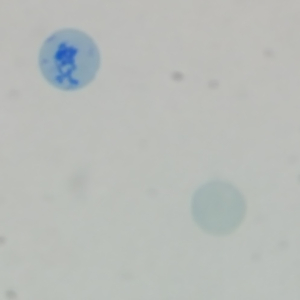aggregate reticulocyte: (36, 26, 102, 94)
erythrocyte: (189, 179, 247, 237)
